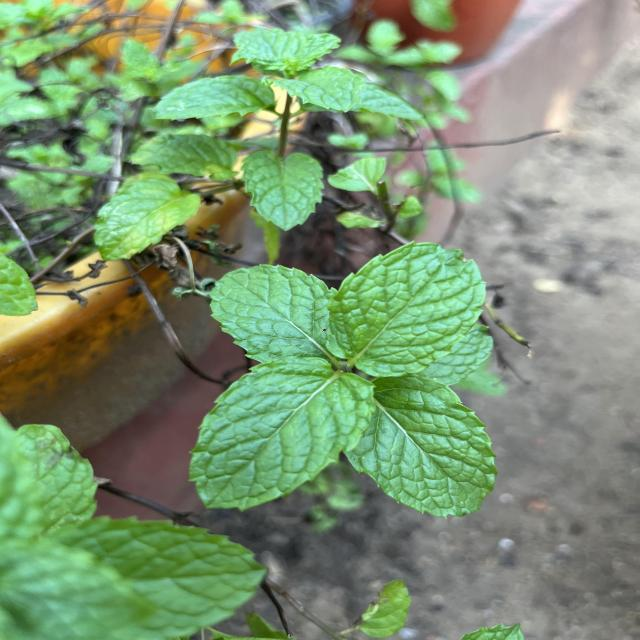Mentha spicata: (186, 356, 376, 514), (322, 240, 488, 380), (342, 374, 499, 522), (207, 262, 338, 362), (239, 149, 324, 232)
